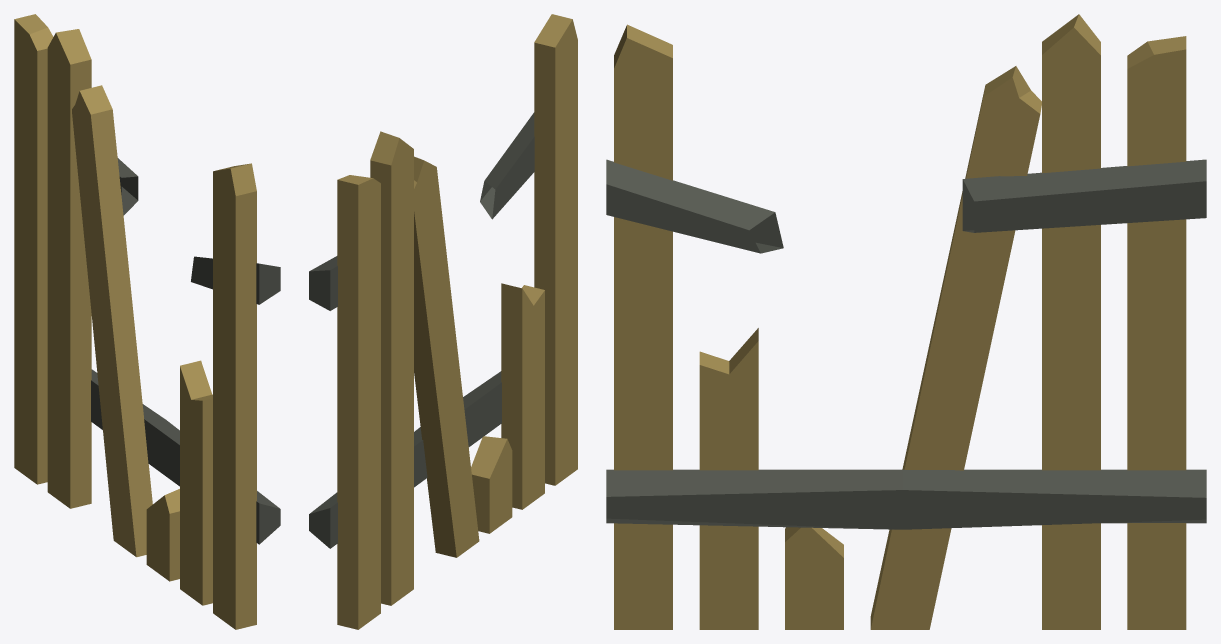
Rendered from Fencebroken.fbx.
3 renders of one model, left to right at view 1: azimuth 30°, elevation 25°; view 2: azimuth 150°, elevation 25°; view 3: azimuth 270°, elevation 25°, orthographic. The views are drawn at different scales.
Parts seen in each view (by area): view 1: Cube.008, Cube.009, Cube.010; view 2: Cube.008, Cube.009, Cube.010; view 3: Cube.008, Cube.009, Cube.010.
Boxes of the visible parts, box(x1,y1,x2,y2) form: Cube.008: box(14, 14, 256, 629); Cube.009: box(91, 256, 280, 544); Cube.010: box(117, 158, 138, 215); Cube.008: box(337, 14, 577, 629); Cube.009: box(309, 112, 534, 548); Cube.010: box(309, 256, 337, 310); Cube.008: box(614, 14, 1186, 629); Cube.009: box(606, 159, 1206, 529); Cube.010: box(962, 159, 1206, 232).
Size of the model in its own units: 21.64 by 223 by 201.
